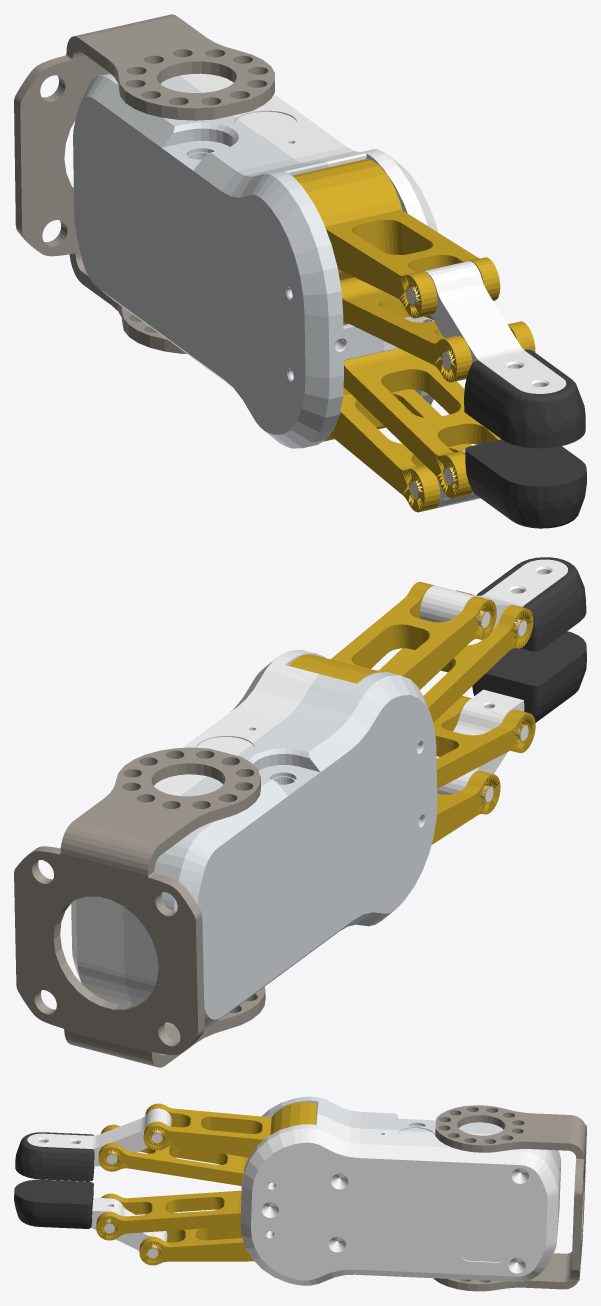
Rendered from RG2 Gripper Assembly Rev B v2.dae.
3 renders of one model, top to bottom at view 1: azimuth 30°, elevation 25°; view 2: azimuth 150°, elevation 25°; view 3: azimuth 270°, elevation 25°, orthographic. The views are drawn at different scales.
Visible parts, largest first — view 1: node1, node10, node2, node6, node9, node4, node8, node0, node3, node5, node7; view 2: node1, node10, node0, node2, node9, node3, node6, node4, node8, node7, node5; view 3: node0, node10, node2, node6, node3, node9, node5, node1, node8, node4, node7.
Boxes of the visible parts, x1=… form: node1: x1=73, y1=73, x2=384, y2=448; node10: x1=14, y1=14, x2=274, y2=353; node2: x1=292, y1=159, x2=500, y2=318; node6: x1=343, y1=348, x2=500, y2=498; node9: x1=465, y1=439, x2=586, y2=528; node4: x1=407, y1=261, x2=566, y2=393; node8: x1=464, y1=349, x2=585, y2=448; node0: x1=180, y1=73, x2=438, y2=404; node3: x1=340, y1=277, x2=535, y2=382; node5: x1=323, y1=388, x2=472, y2=512; node7: x1=410, y1=450, x2=480, y2=508; node1: x1=123, y1=672, x2=437, y2=1029; node10: x1=14, y1=747, x2=265, y2=1067; node0: x1=71, y1=649, x2=325, y2=1004; node2: x1=289, y1=581, x2=496, y2=689; node9: x1=472, y1=631, x2=586, y2=722; node3: x1=379, y1=590, x2=533, y2=722; node6: x1=433, y1=695, x2=535, y2=788; node4: x1=420, y1=559, x2=568, y2=636; node8: x1=477, y1=557, x2=586, y2=651; node7: x1=437, y1=689, x2=528, y2=802; node5: x1=431, y1=771, x2=500, y2=844; node0: x1=240, y1=1114, x2=559, y2=1285; node10: x1=433, y1=1105, x2=586, y2=1291; node2: x1=143, y1=1102, x2=317, y2=1157; node6: x1=96, y1=1190, x2=241, y2=1240; node3: x1=98, y1=1124, x2=248, y2=1186; node9: x1=14, y1=1179, x2=93, y2=1228; node5: x1=139, y1=1226, x2=253, y2=1265; node1: x1=261, y1=1096, x2=560, y2=1221; node8: x1=15, y1=1132, x2=94, y2=1181; node4: x1=27, y1=1108, x2=171, y2=1166; node7: x1=91, y1=1197, x2=167, y2=1258.
Size of the model in its own units: 0.0522 by 0.2137 by 0.0657.
